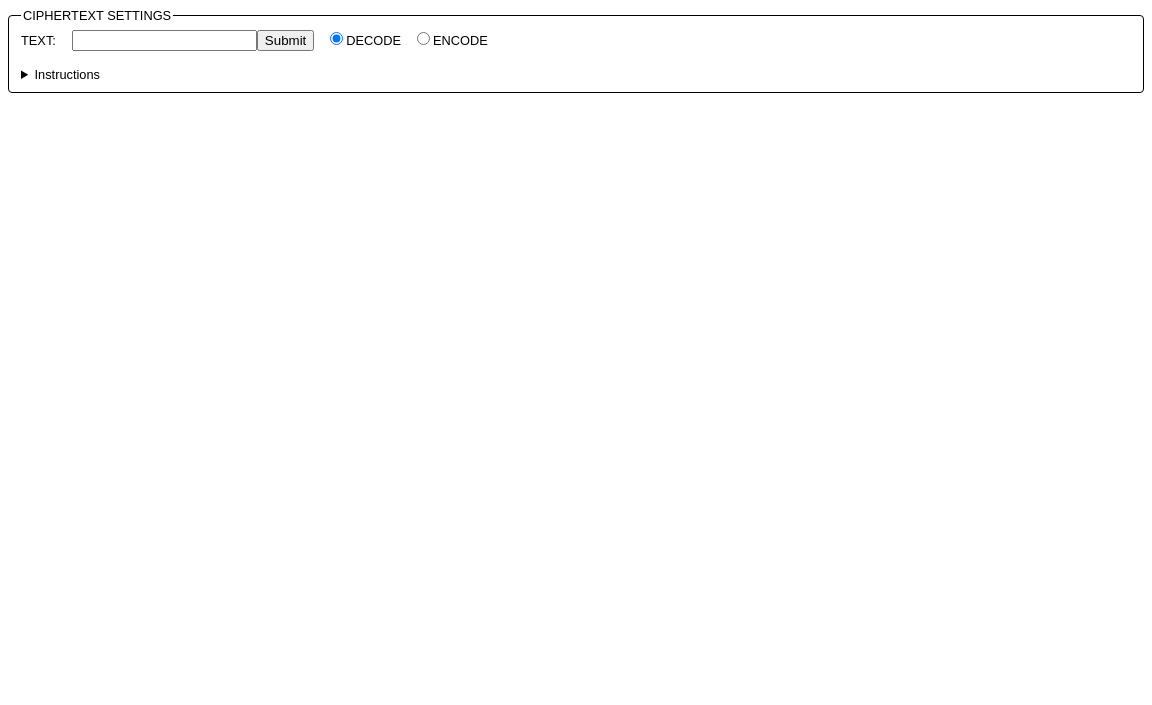
Scenario: generates correct shift results
This screenshot has width=1152, height=705.
Type "ABC" into the field labelled "Text:" at x=164, y=40, box [72, 30, 257, 51]
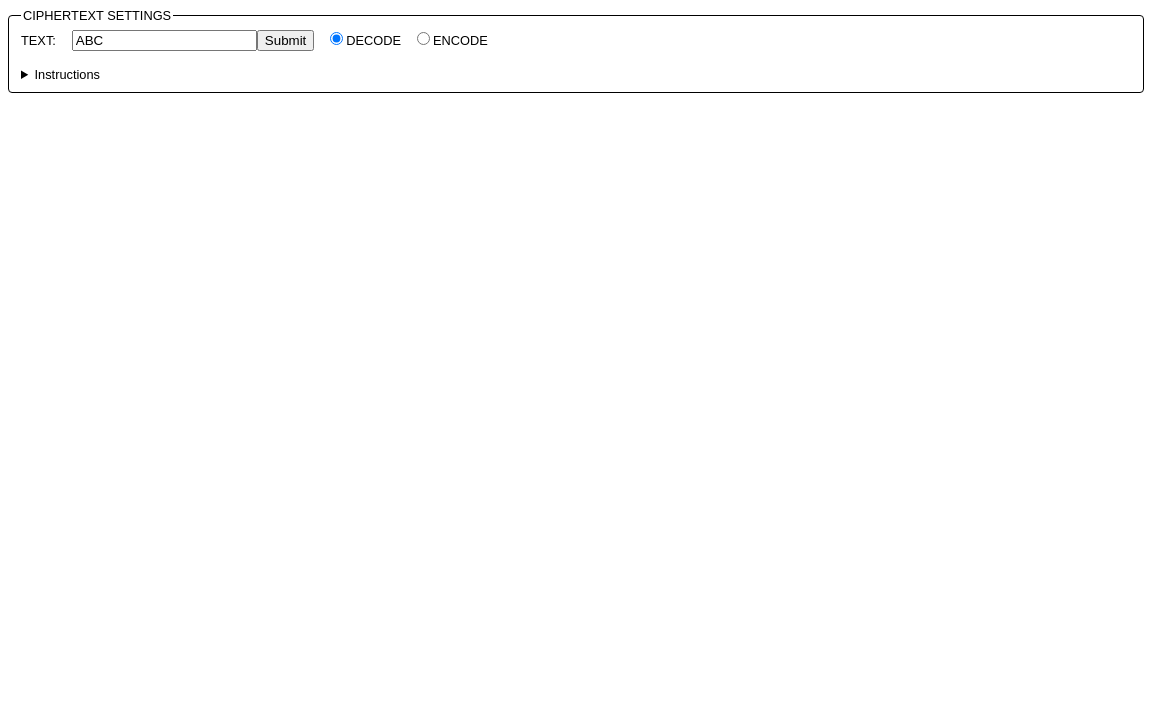
Click the button showing "Submit" at x=286, y=40, box [257, 30, 314, 51]
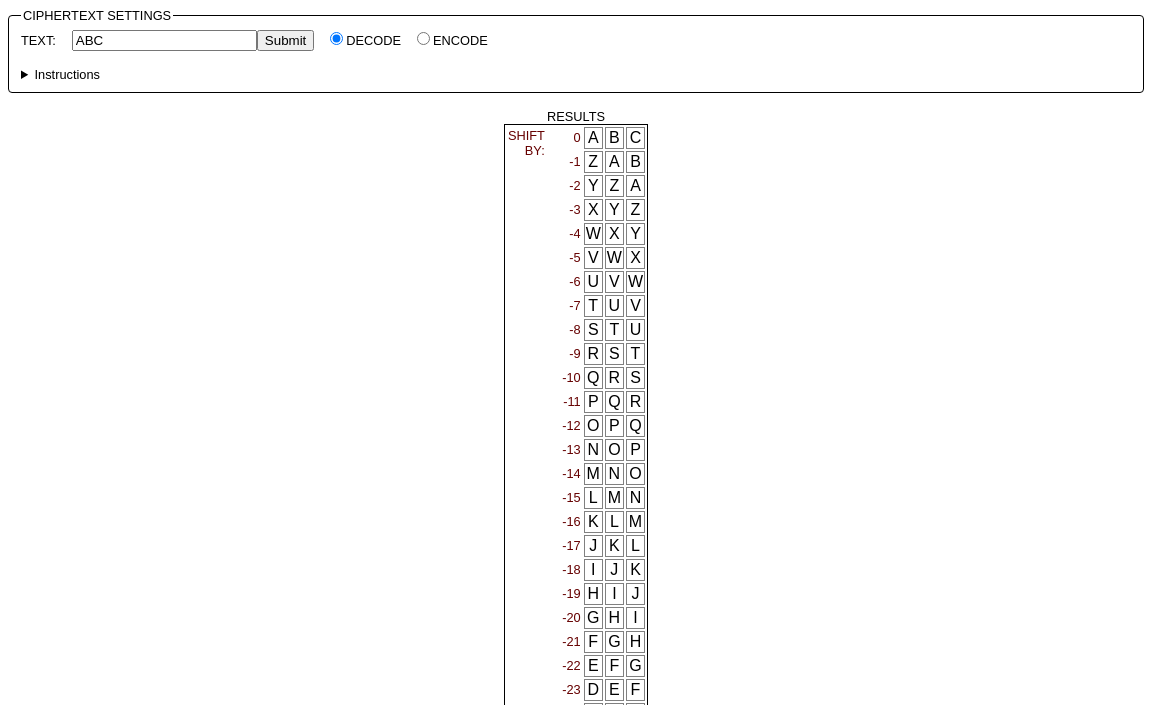
Now the number of rows is 26
